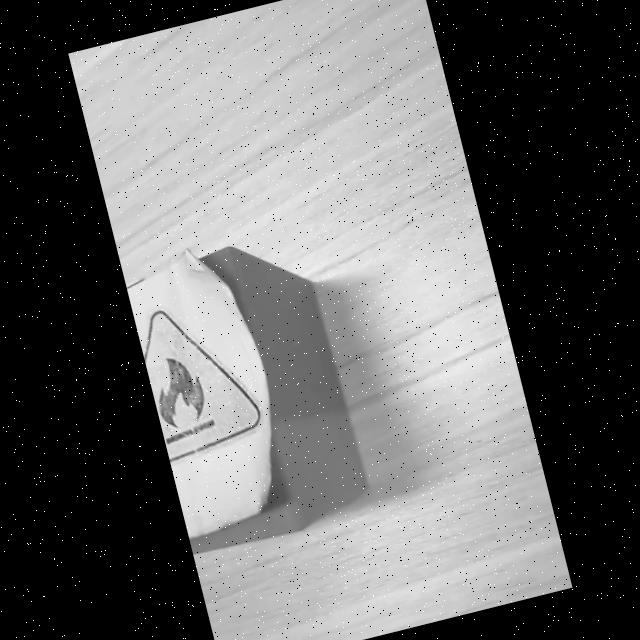Fire: (143, 309, 262, 464)
